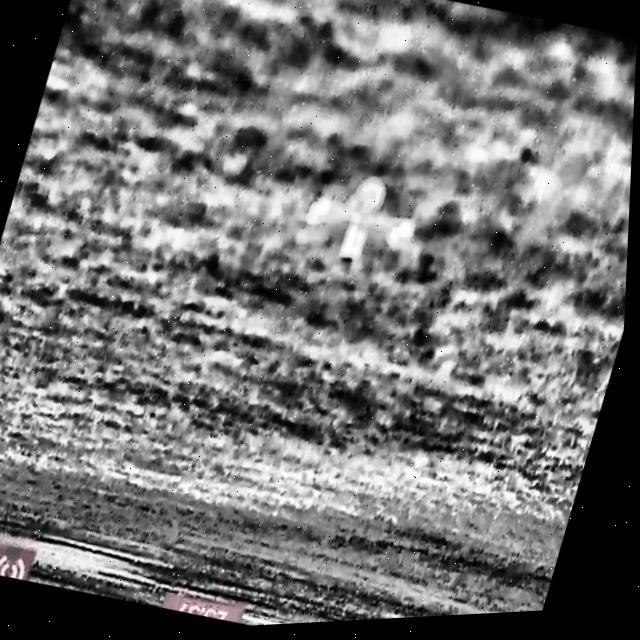drone: (296, 164, 428, 281)
